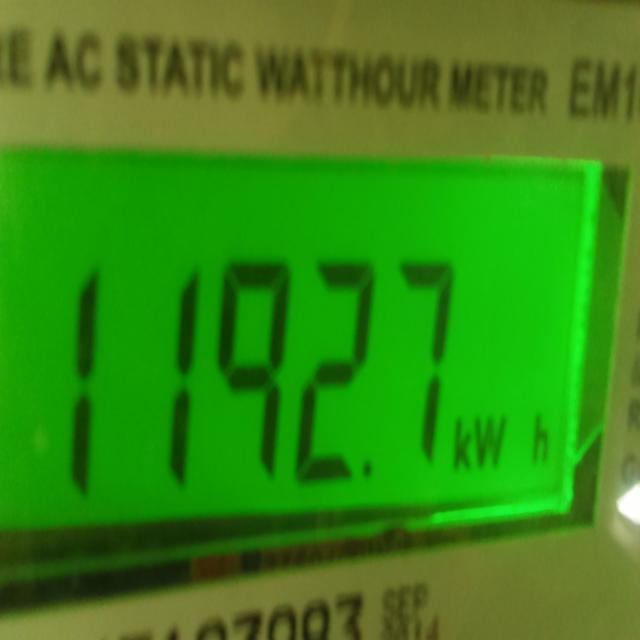.: (359, 452, 381, 486)
1: (135, 241, 216, 492), (46, 254, 119, 508)
2: (295, 250, 386, 498)
7: (389, 237, 454, 477)
9: (209, 241, 295, 505)
